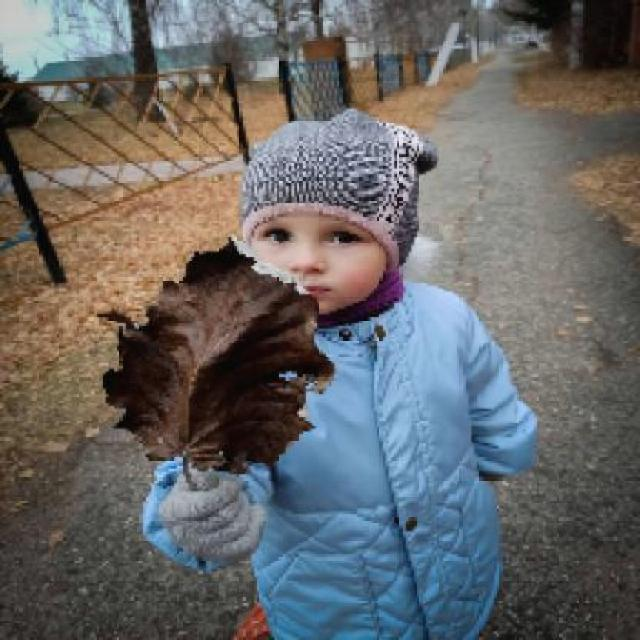child: (137, 105, 540, 638)
